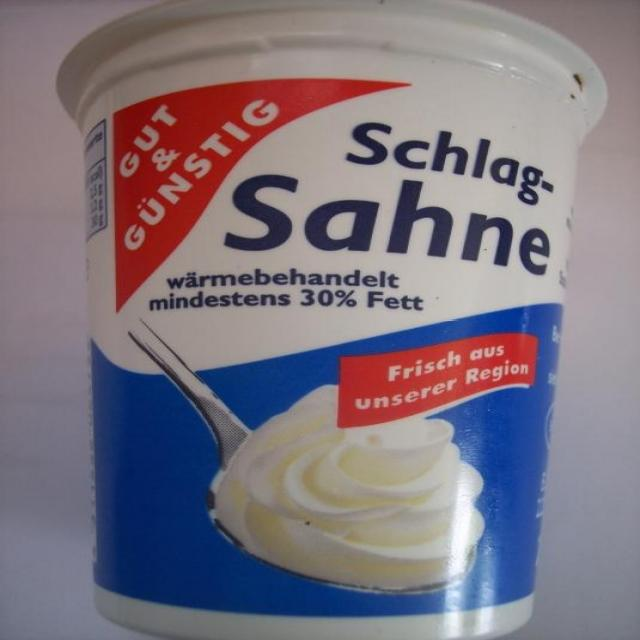Cream: (57, 0, 605, 640)
